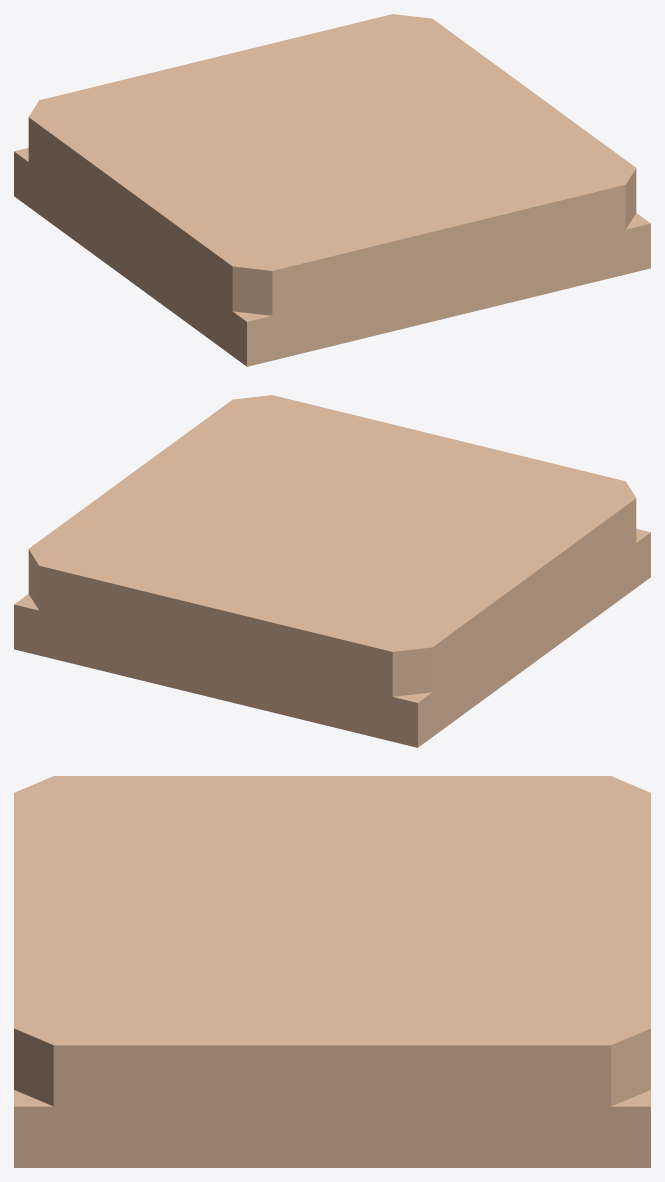
The model's file is roof-flat-detail-a.obj.
3 views of the same model, one above another, from view 1: azimuth 30°, elevation 25°; view 2: azimuth 150°, elevation 25°; view 3: azimuth 270°, elevation 25° (orthographic). The views are drawn at different scales.
Bounding box in the file's own units: 1 × 0.2125 × 1.
